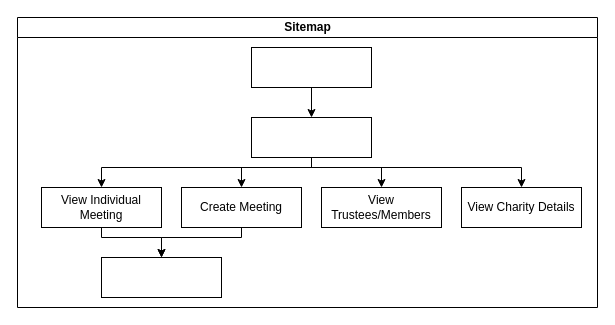
Some shapes in this 615 by 325 pixel diagram are drawn without their labels. The centre of each missing label's shape, as x and y in pixels:
"Edit Meeting" goes at (x=161, y=277).
"Select Charity (Homepage)" goes at (x=311, y=67).
"View Meetings" goes at (x=311, y=137).
